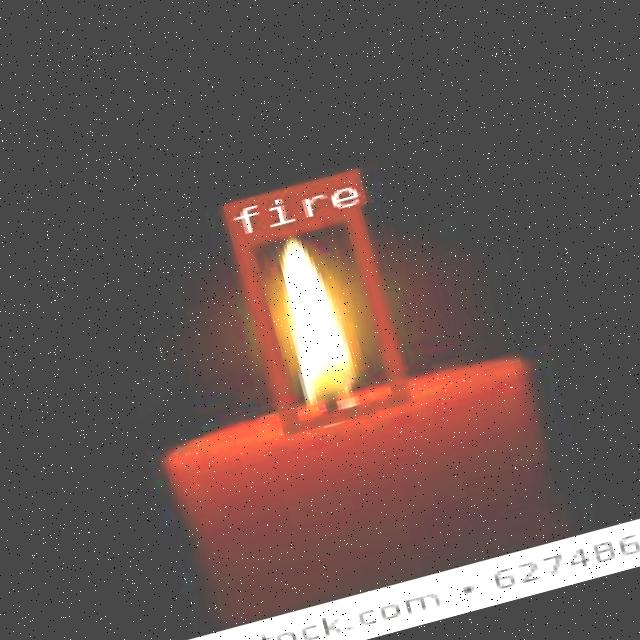fire: (228, 205, 406, 432)
